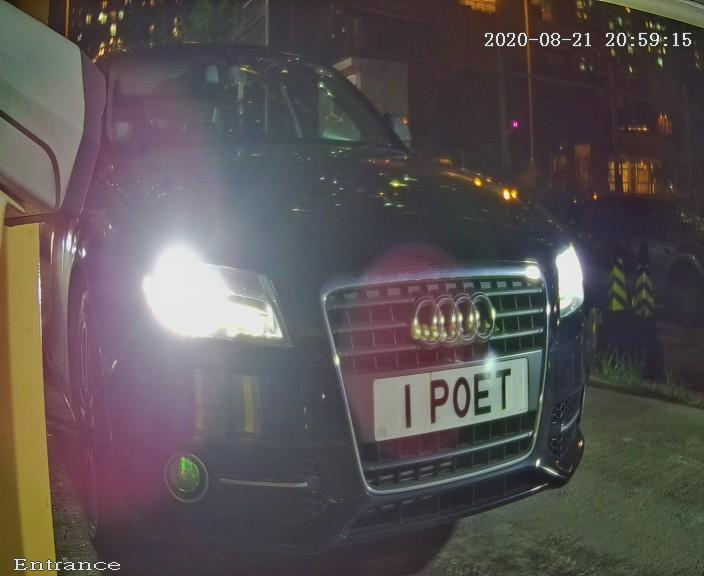Car: (19, 1, 645, 569)
License Plate: (333, 331, 566, 463)
